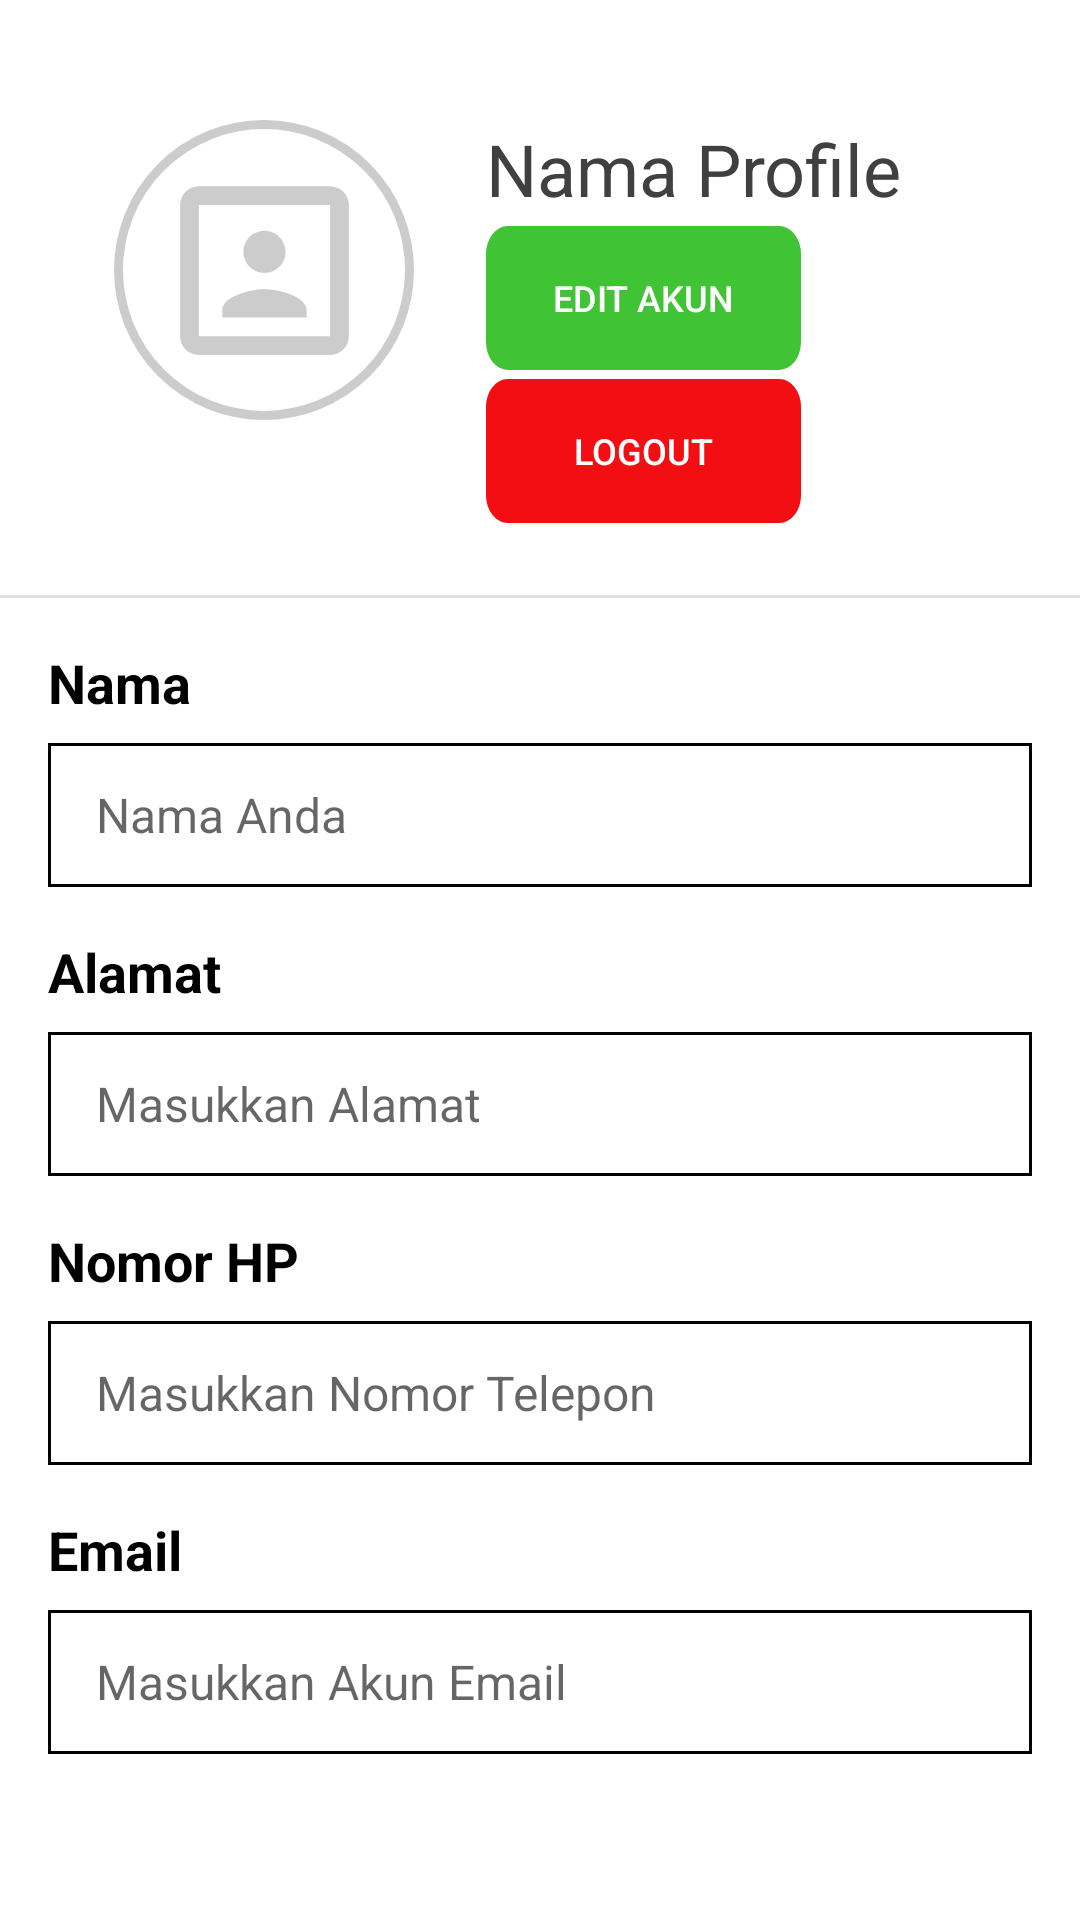

Icon click points for this 1080 x 1920 phone screenshot, format (x,y):
portrait: (264,270)
